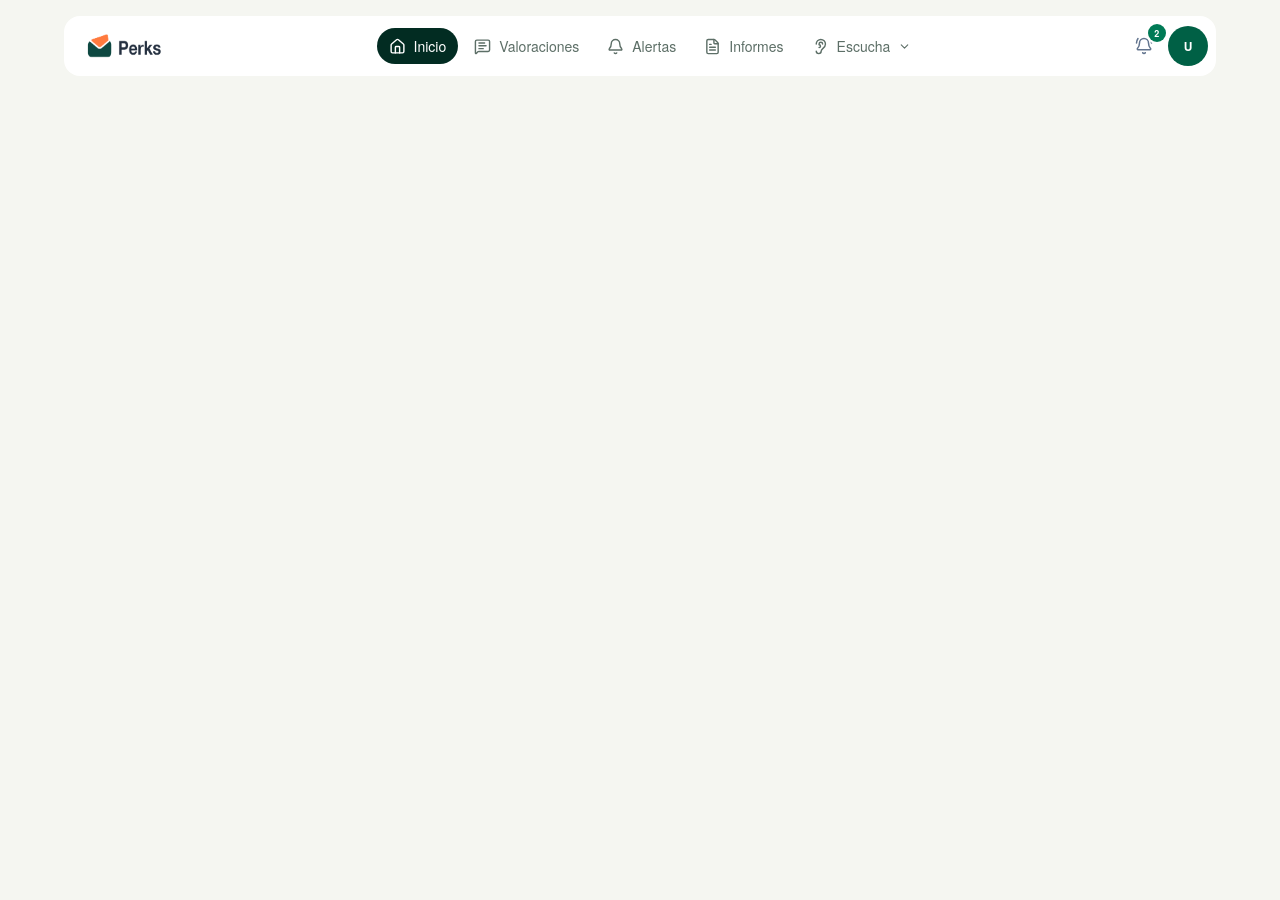
Scenario: DashboardFloatingNav › solo muestra las últimas notificaciones en el popover
This screenshot has width=1280, height=900.
Click the button named "notificaciones".
click(1144, 46)  # box [1124,26,1164,66]
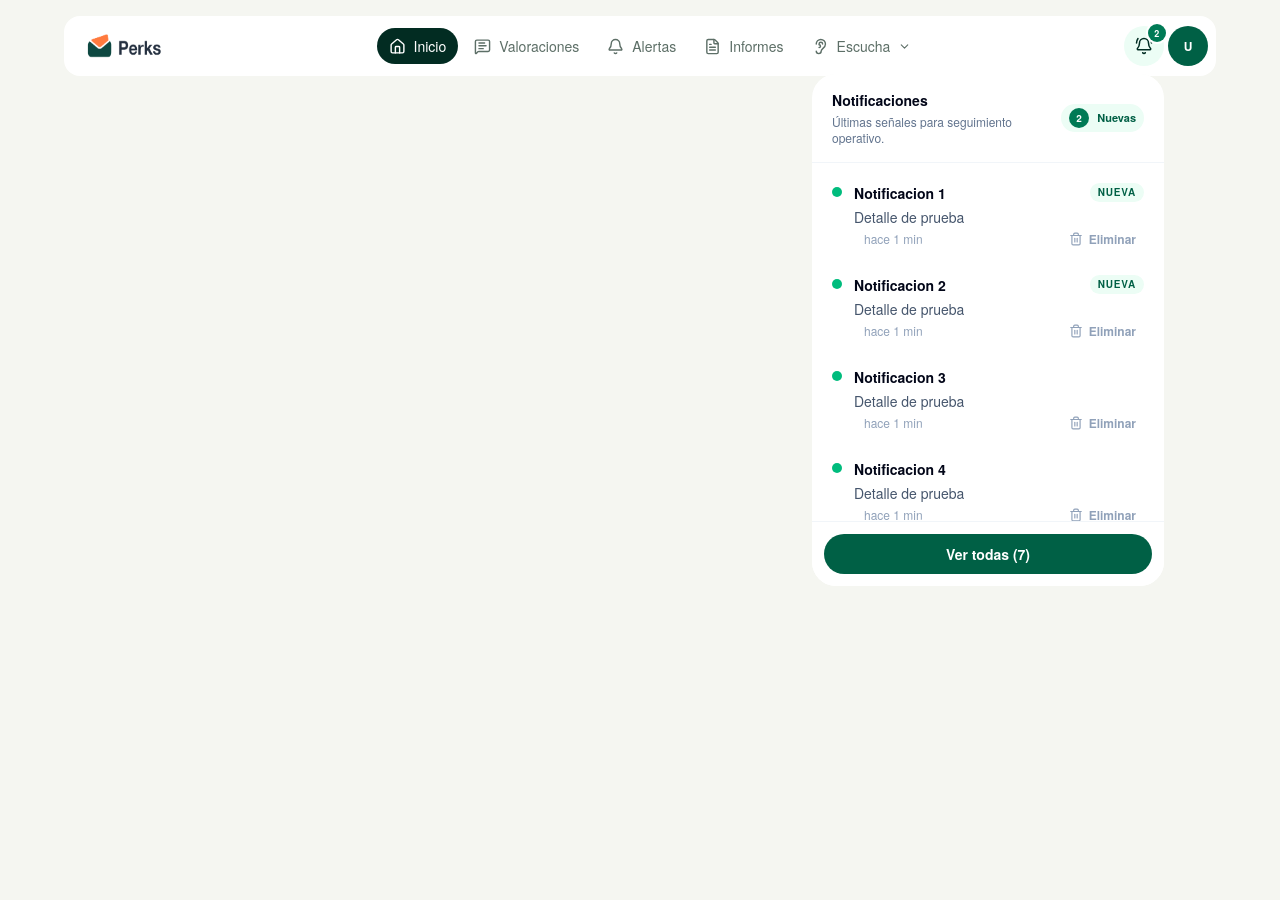
Result: the text "Notificacion 1" is shown at [854,183,946,203]
Result: the button "Ver todas (7)" is shown at [824,534,1152,574]
